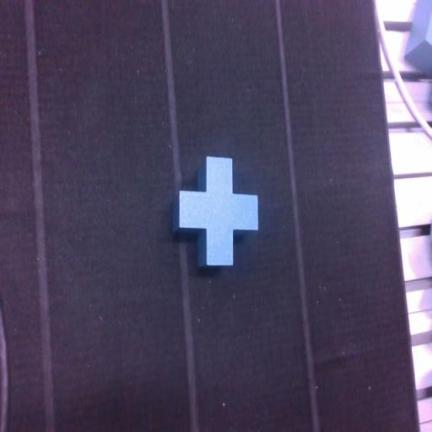cross: (174, 157, 258, 266)
